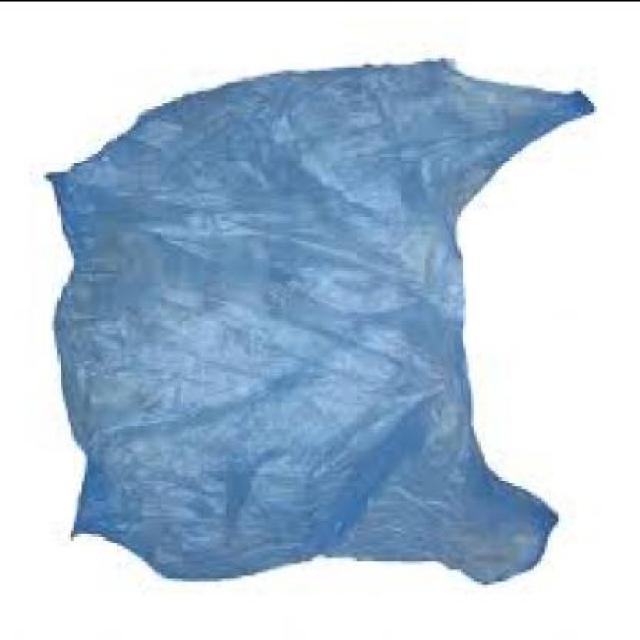PLASTIC: (46, 60, 597, 586)
